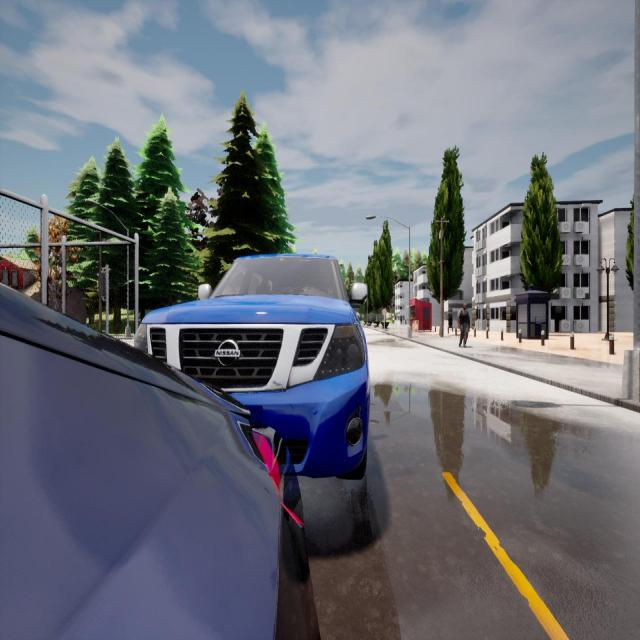Pedestrian: (458, 304, 470, 348)
Traffic_Signs: (381, 309, 387, 314)
Vehicle: (0, 285, 317, 638), (135, 255, 366, 478)
traffic_light: (98, 272, 105, 297)
